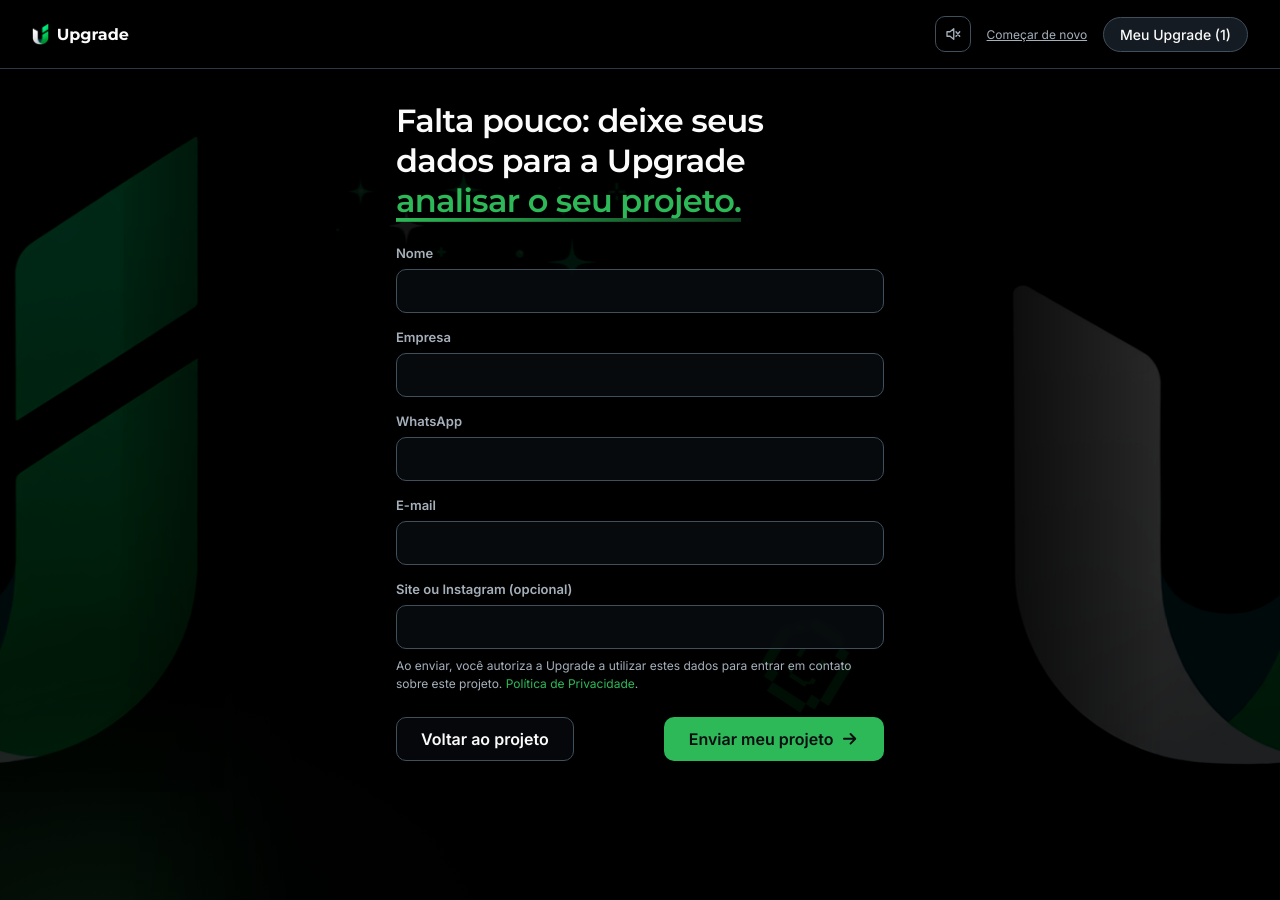
Test: LeadForm — integração (Etapa 12) › campo opcional vazio não impede o envio
Type "João Silva" into the field labelled "Nome" at (640,291), box [396, 269, 884, 313]
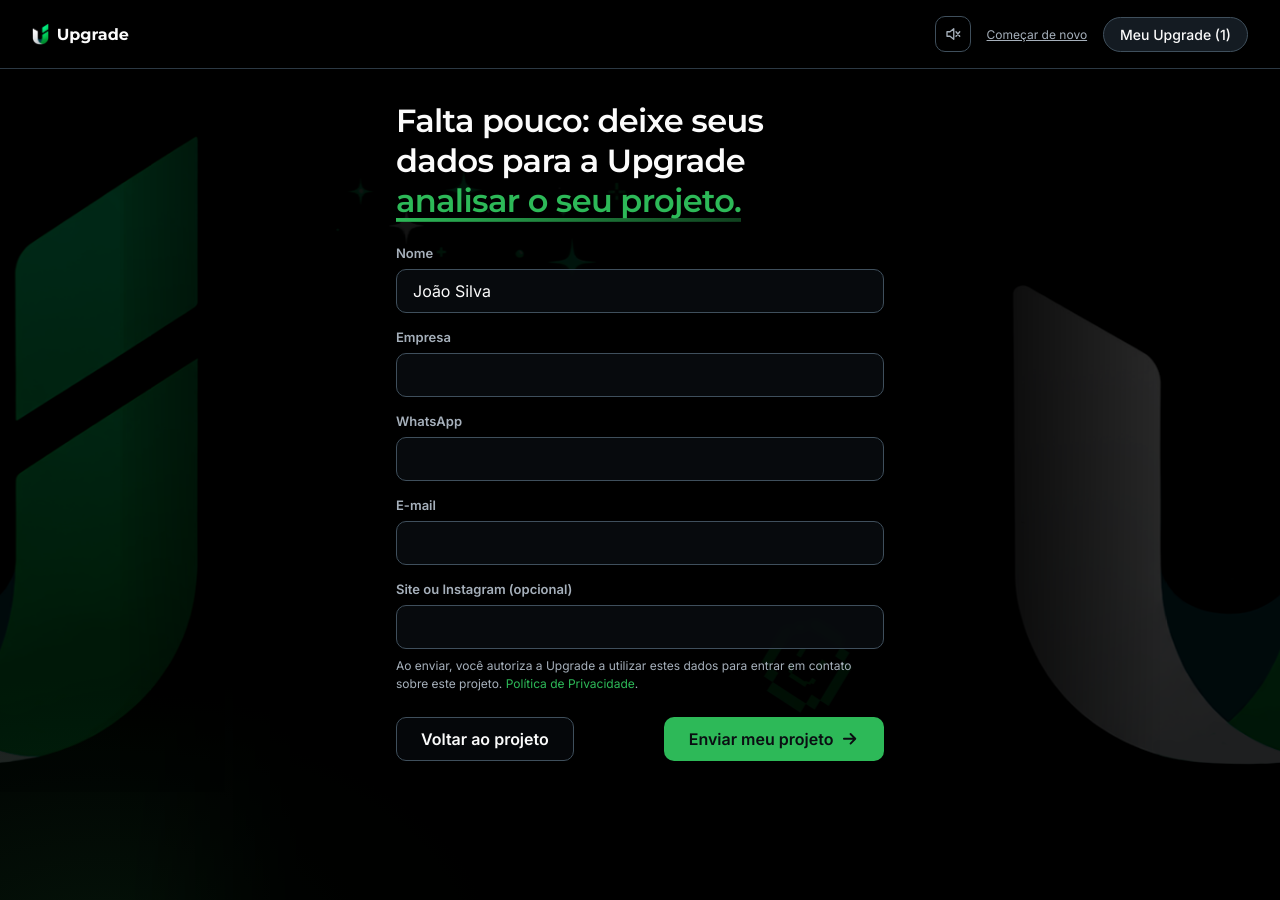
Type "ABC Móveis" into the field labelled "Empresa" at (640,375), box [396, 353, 884, 397]
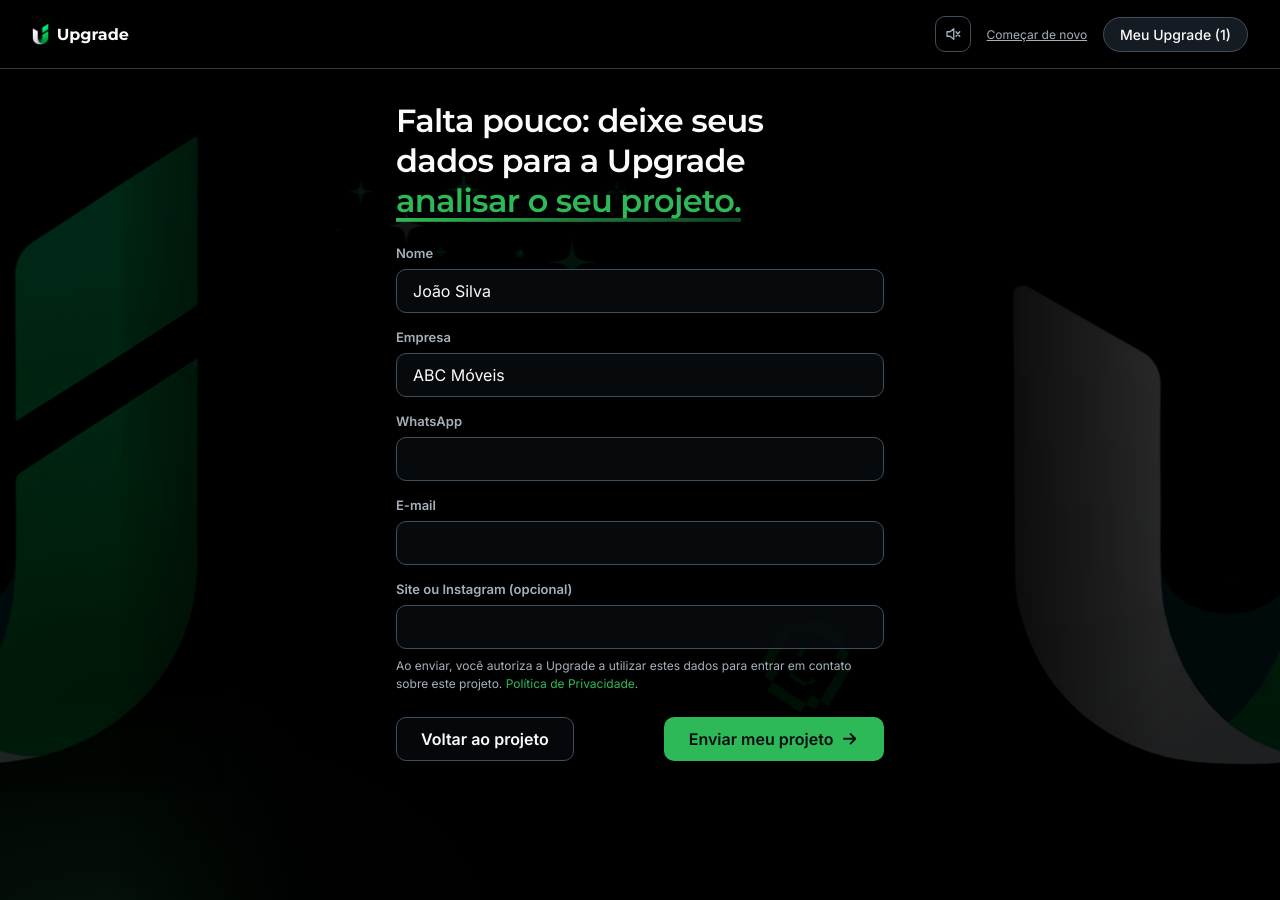
Type "(13) 99999-9999" into the field labelled "WhatsApp" at (640,459), box [396, 437, 884, 481]
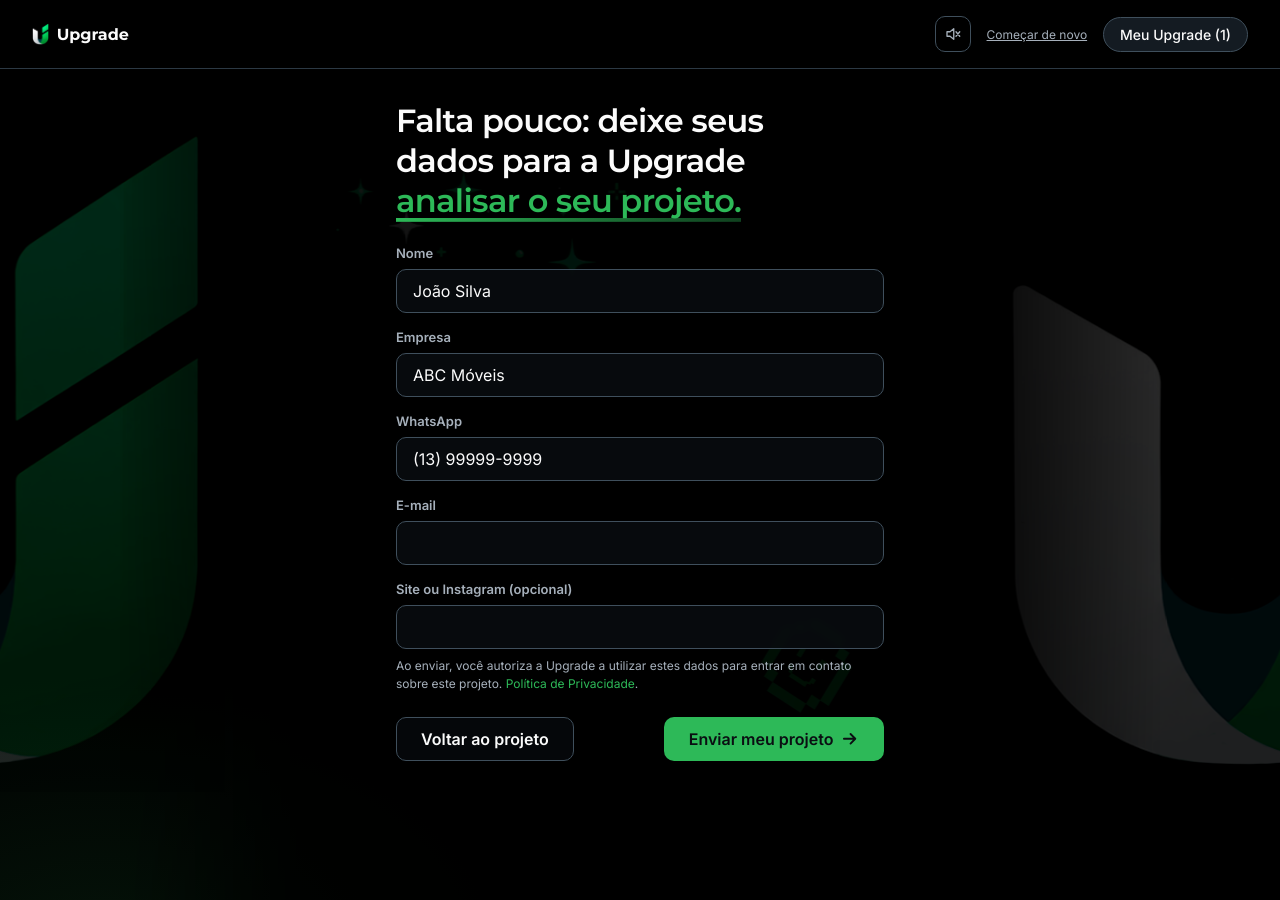
Type "joao@teste.com" into the field labelled "E-mail" at (640,543), box [396, 521, 884, 565]
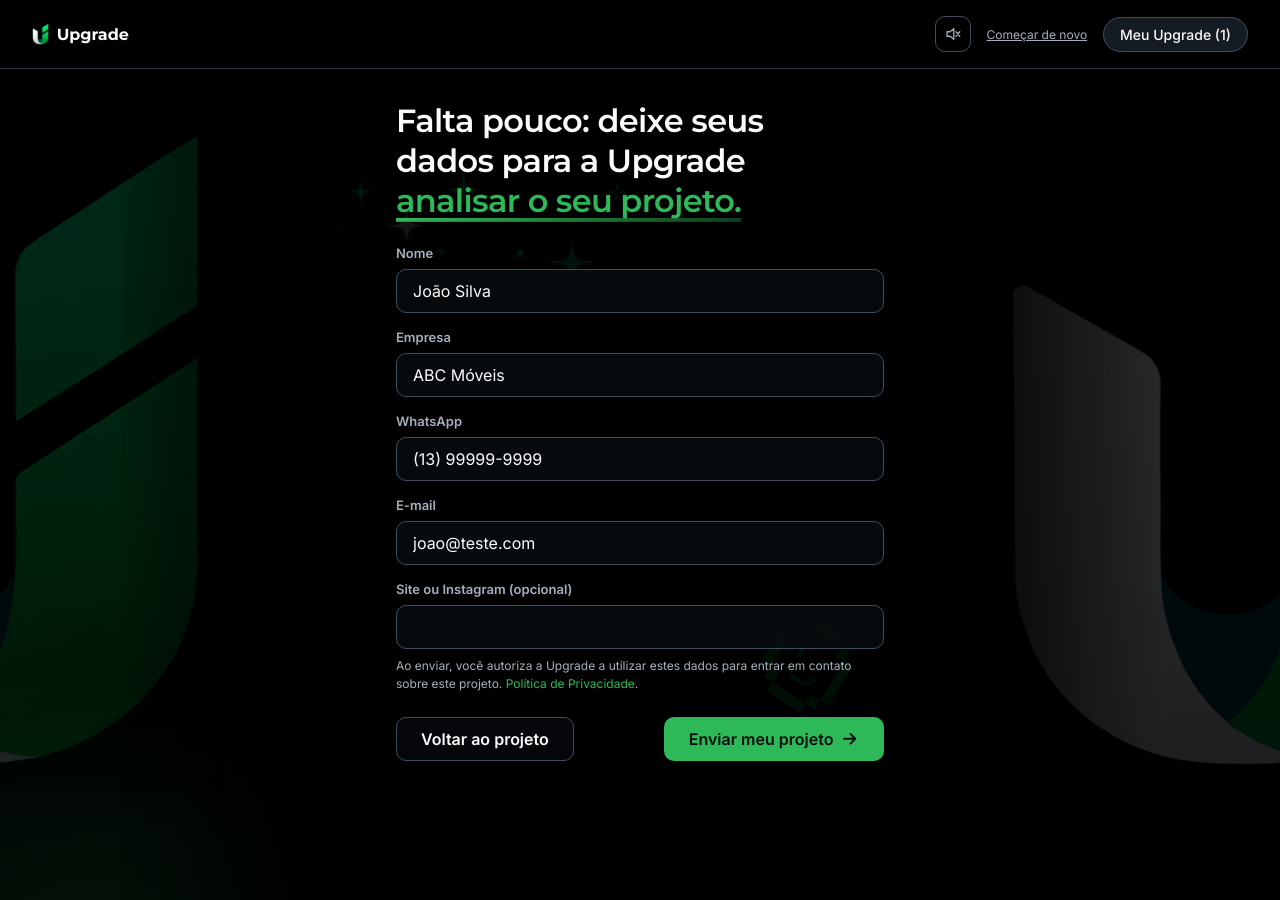
Click the button "Enviar meu projeto" at (774,739), box [664, 717, 884, 761]
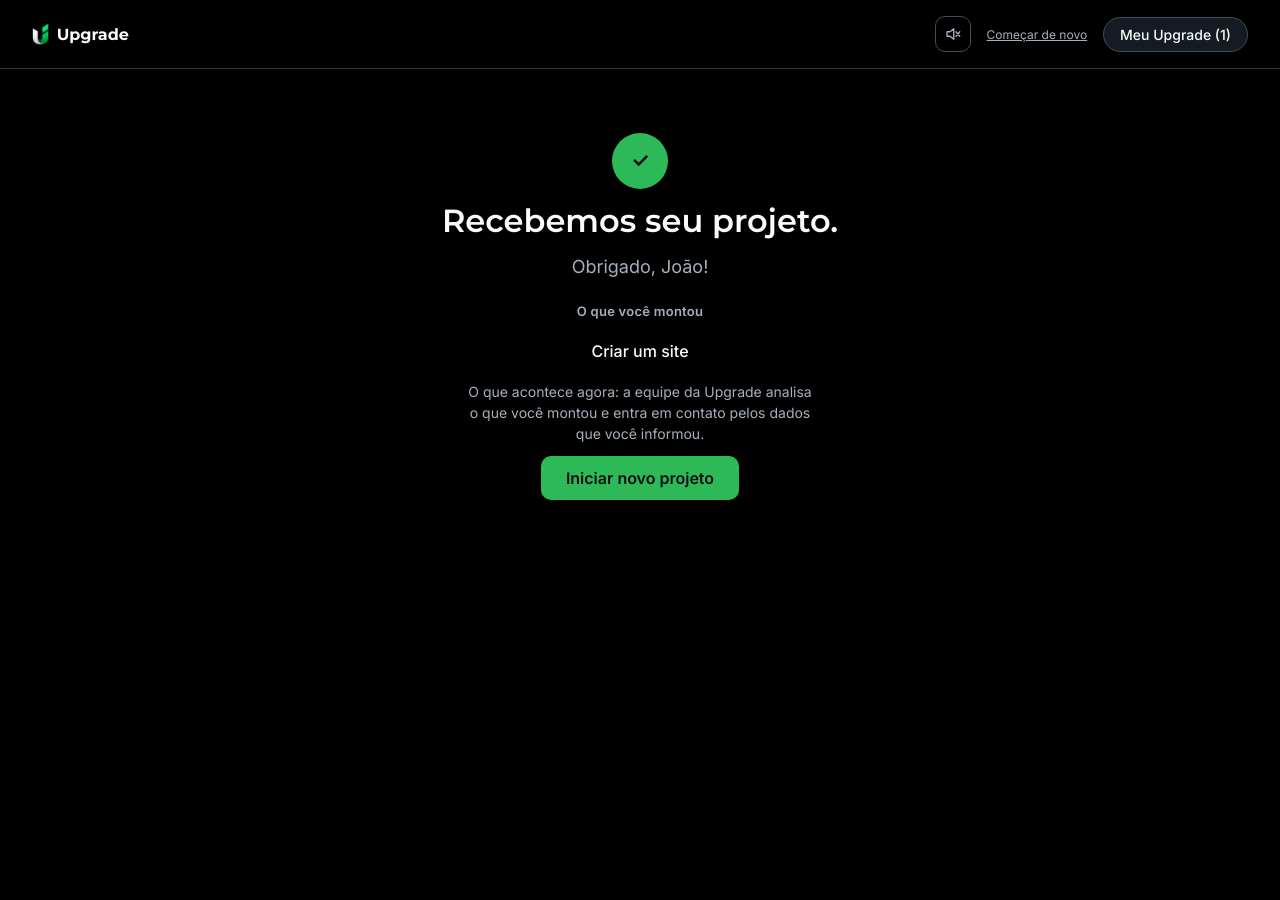
Expected: the heading "Recebemos seu projeto." is shown, [442, 201, 838, 241]
